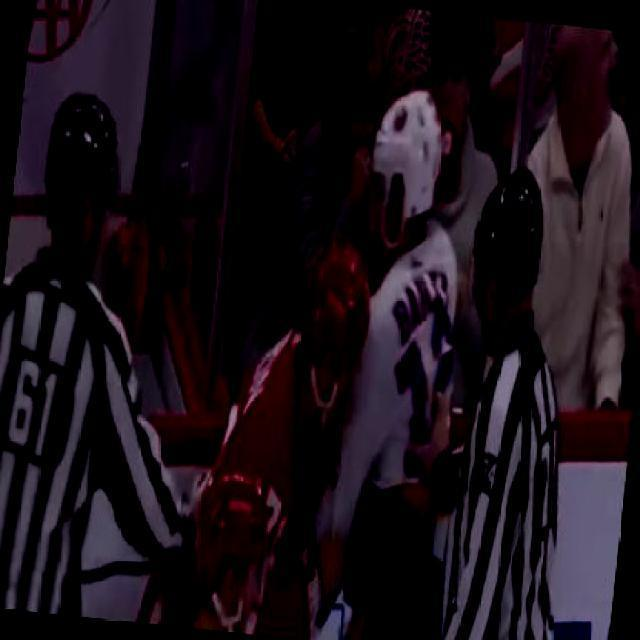fight: (175, 63, 483, 639)
non-fight: (0, 84, 169, 620), (424, 158, 604, 638)
